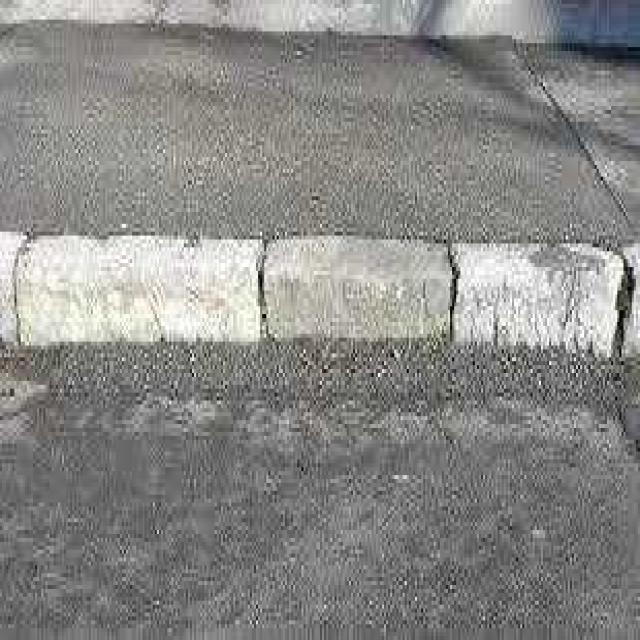bump: (0, 210, 640, 402)
